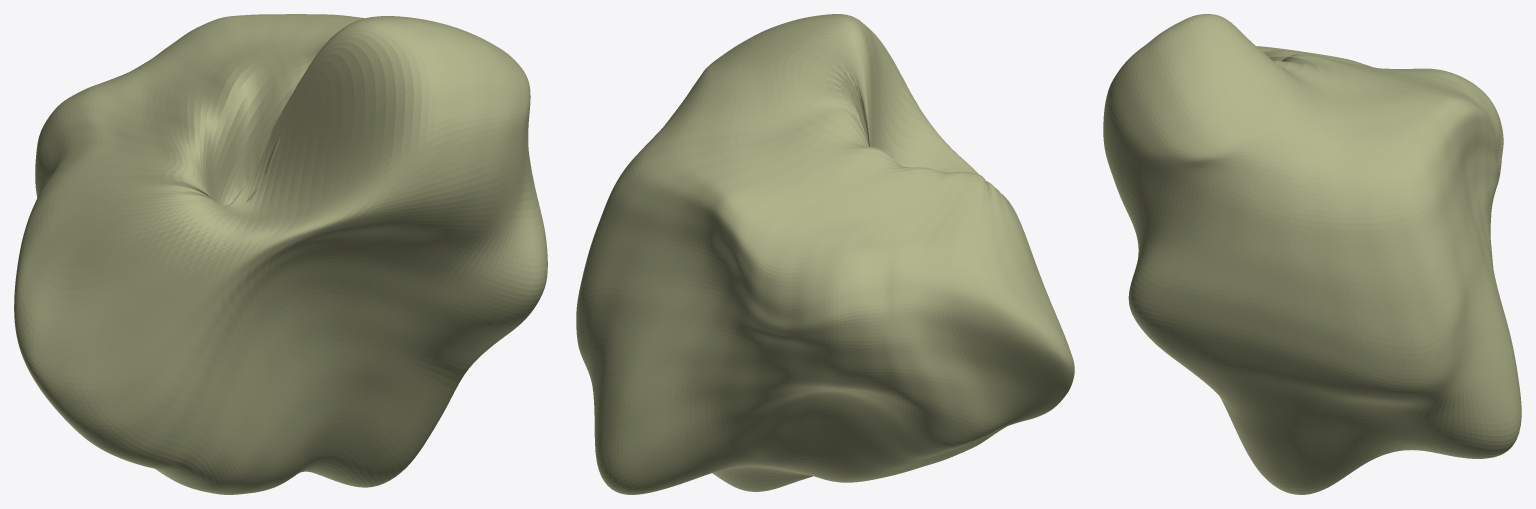
Rendered from oxidised_sodium.fbx.
The picture shows the model from 3 angles, left to right: view 1: azimuth 30°, elevation 25°; view 2: azimuth 150°, elevation 25°; view 3: azimuth 270°, elevation 25°; orthographic projection. The views are drawn at different scales.
Visible parts, largest first — view 1: Circle; view 2: Circle; view 3: Circle.
Part boxes in pixels (<box>): Circle: <box>14,14,547,494</box>; Circle: <box>576,14,1074,494</box>; Circle: <box>1103,14,1521,494</box>.
Bounding box in the file's own units: 223 × 221 × 184.
